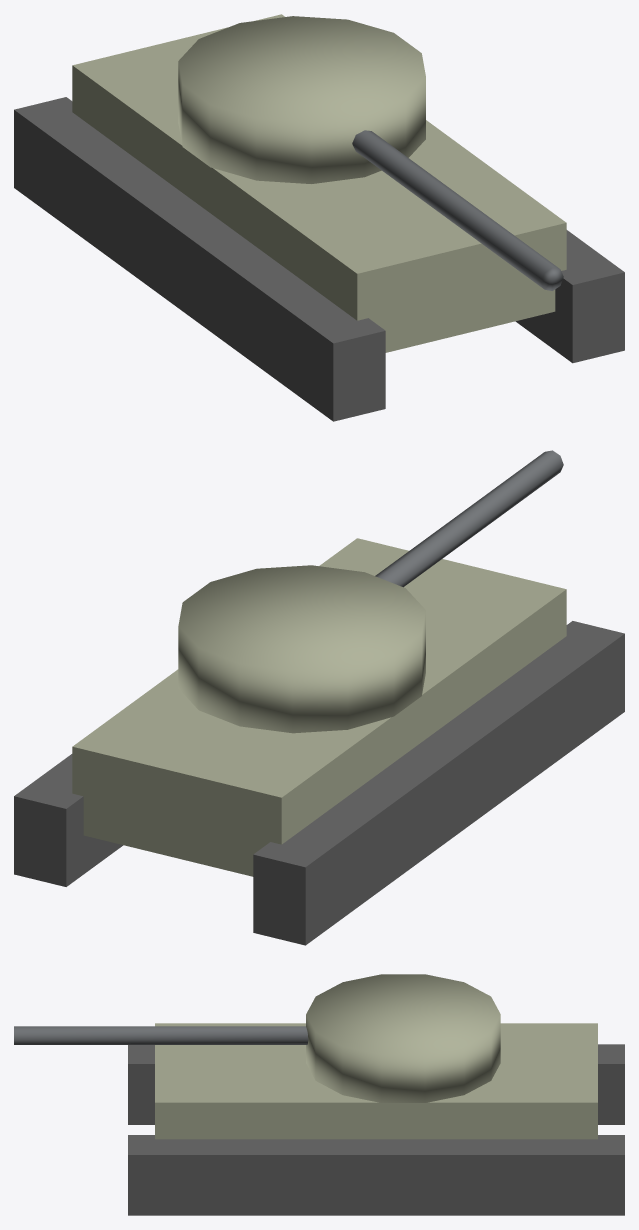
File: vehicle.glb
The picture shows the model from 3 angles, top to bottom: view 1: azimuth 30°, elevation 25°; view 2: azimuth 150°, elevation 25°; view 3: azimuth 270°, elevation 25°; orthographic projection. The views are drawn at different scales.
Visible parts, largest first — view 1: vehicle; view 2: vehicle; view 3: vehicle.
Part boxes in pixels (x1,y1,x2,y2): vehicle: (14, 14, 624, 421); vehicle: (14, 450, 624, 945); vehicle: (14, 974, 624, 1215).
Size of the model in its own units: 3.9 by 2.4 by 9.1.
